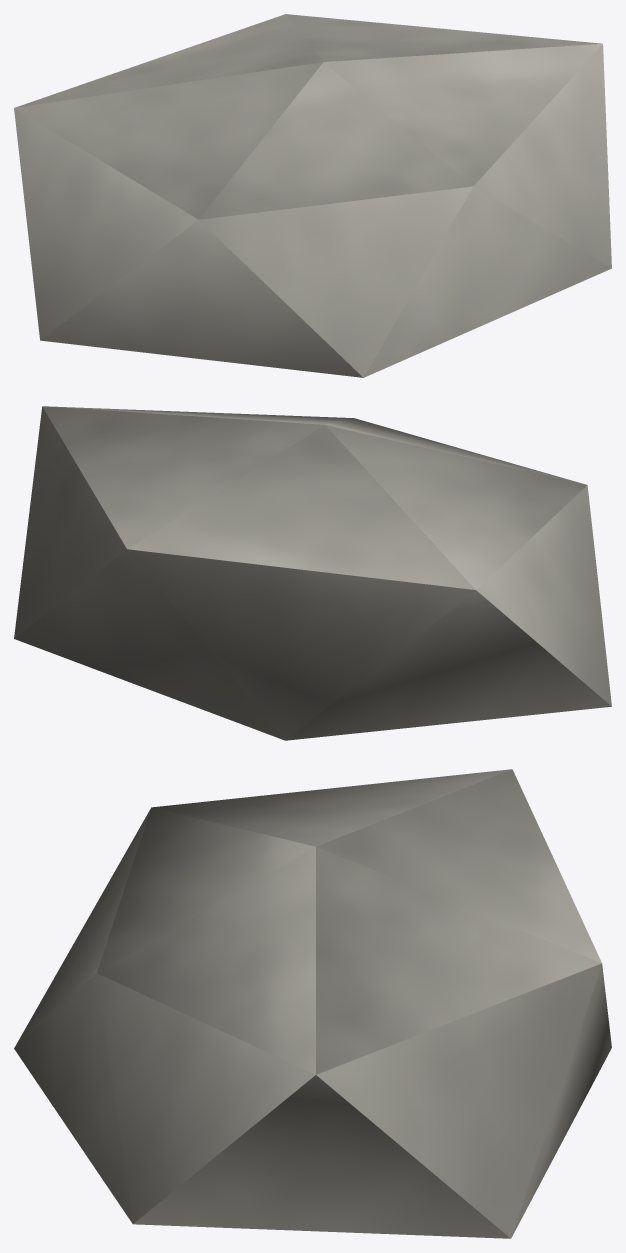
The model's file is rock_small_01.glb.
3 views of the same model, one above another, from view 1: azimuth 30°, elevation 25°; view 2: azimuth 150°, elevation 25°; view 3: azimuth 270°, elevation 25° (orthographic). The views are drawn at different scales.
Visible parts, largest first — view 1: rock_small_01; view 2: rock_small_01; view 3: rock_small_01.
Boxes of the visible parts, x1,y1,x2,y2 form: rock_small_01: (14, 14, 611, 377); rock_small_01: (14, 406, 611, 740); rock_small_01: (14, 769, 611, 1238).
Bounding box in the file's own units: 0.878 × 0.431 × 0.6592.
Materials: 1 (1 with a texture image).
